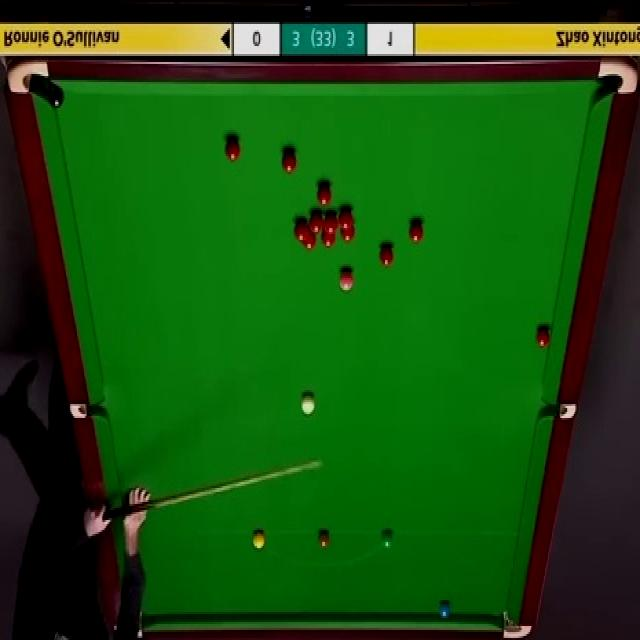pocket: (597, 56, 640, 98), (6, 57, 49, 97), (501, 608, 533, 640), (68, 403, 104, 419), (542, 405, 576, 420)
